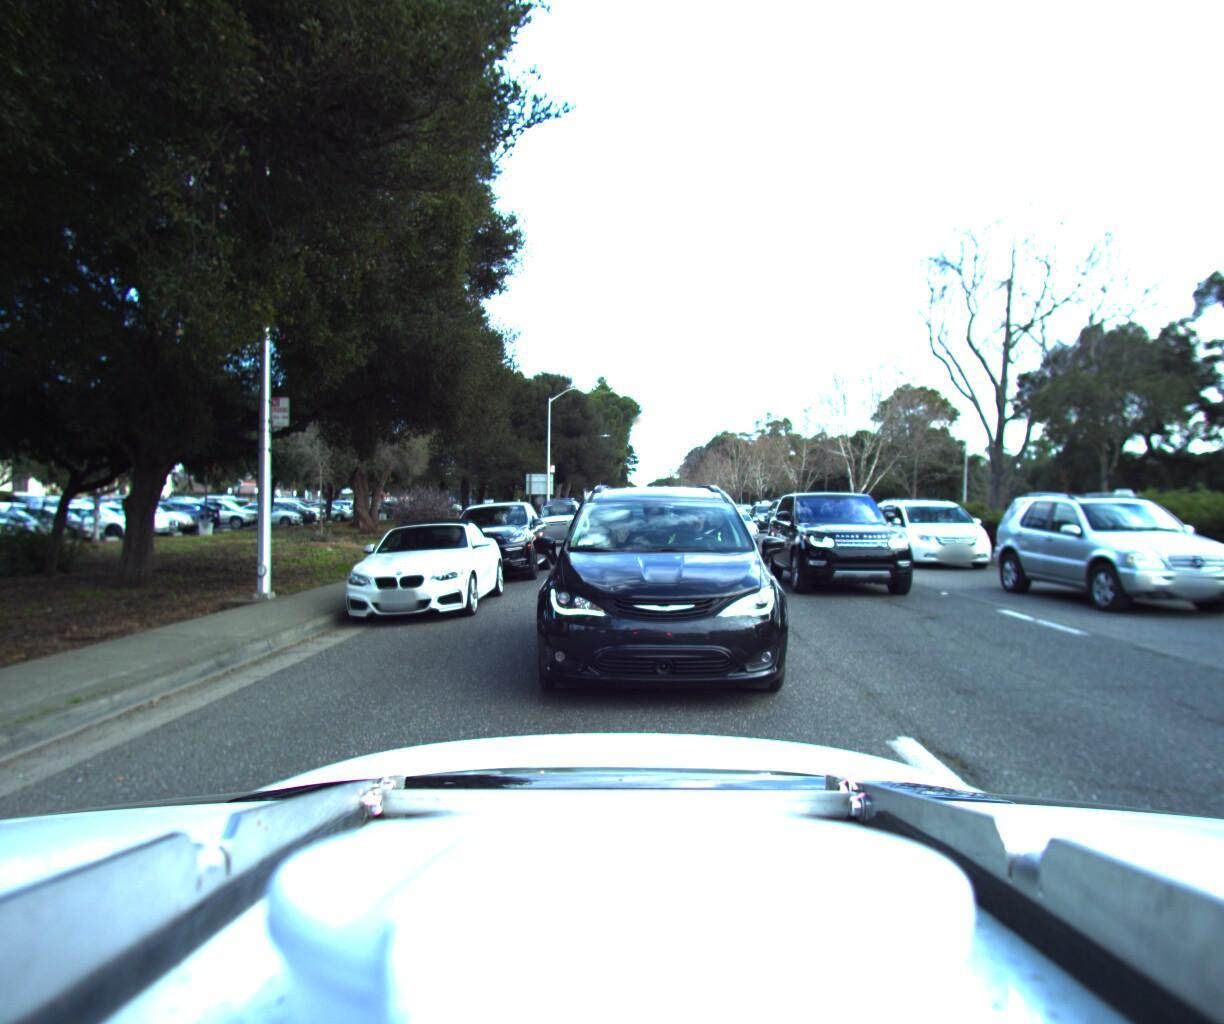car: (526, 464, 798, 713), (982, 486, 1224, 613), (325, 510, 507, 623), (763, 483, 930, 605), (434, 493, 550, 583), (859, 492, 996, 566), (530, 492, 587, 543), (764, 491, 827, 537), (713, 503, 772, 542)
other_vehicle: (1055, 480, 1185, 555)
